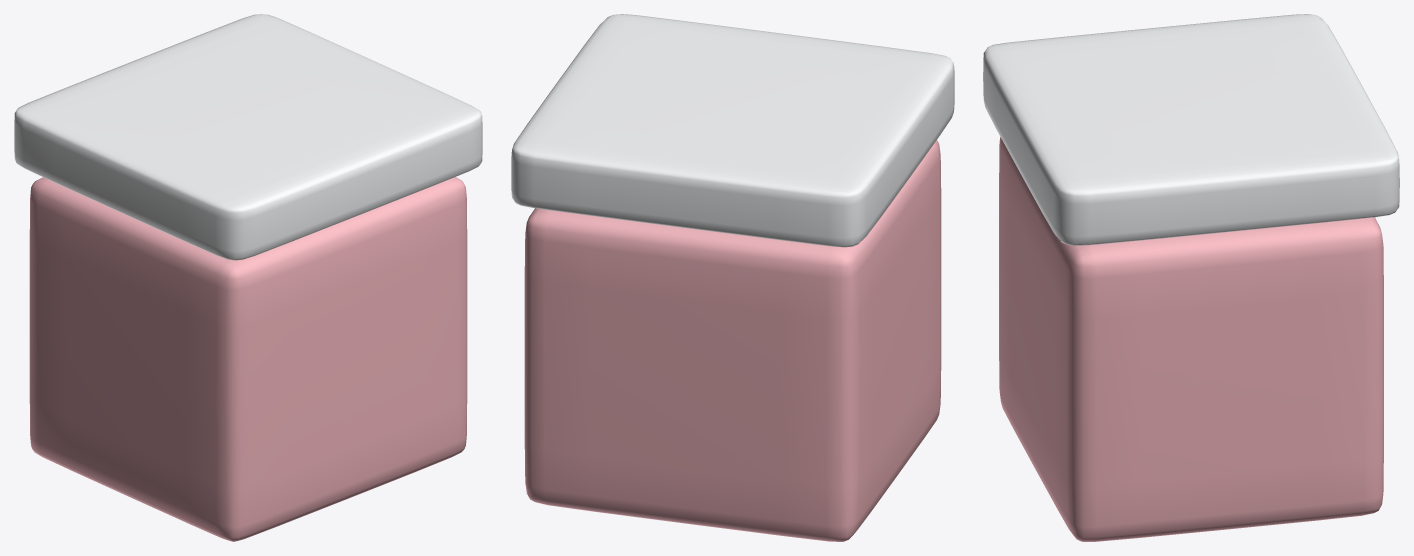
File: PROP_TrashBin_v2.glb
The picture shows the model from 3 angles, left to right: view 1: azimuth 30°, elevation 25°; view 2: azimuth 150°, elevation 25°; view 3: azimuth 270°, elevation 25°; orthographic projection. The views are drawn at different scales.
Visible parts, largest first — view 1: PROP_TrashBin_v2; view 2: PROP_TrashBin_v2; view 3: PROP_TrashBin_v2.
Boxes of the visible parts, <box> form: PROP_TrashBin_v2: <box>14,14,482,541</box>; PROP_TrashBin_v2: <box>511,14,954,541</box>; PROP_TrashBin_v2: <box>983,14,1399,541</box>.
Bounding box in the file's own units: 1.23 × 1.16 × 1.2.
